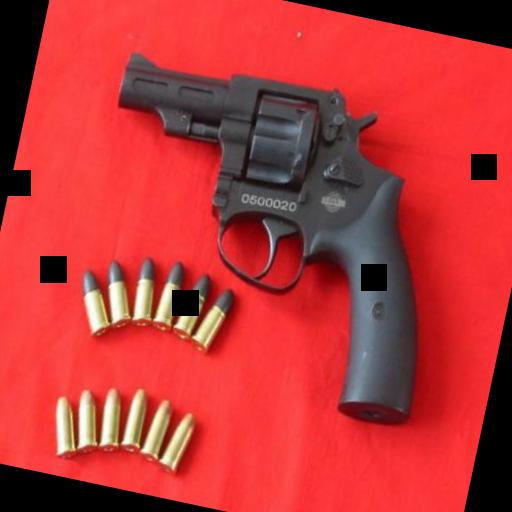Handgun: (60, 43, 482, 430)
